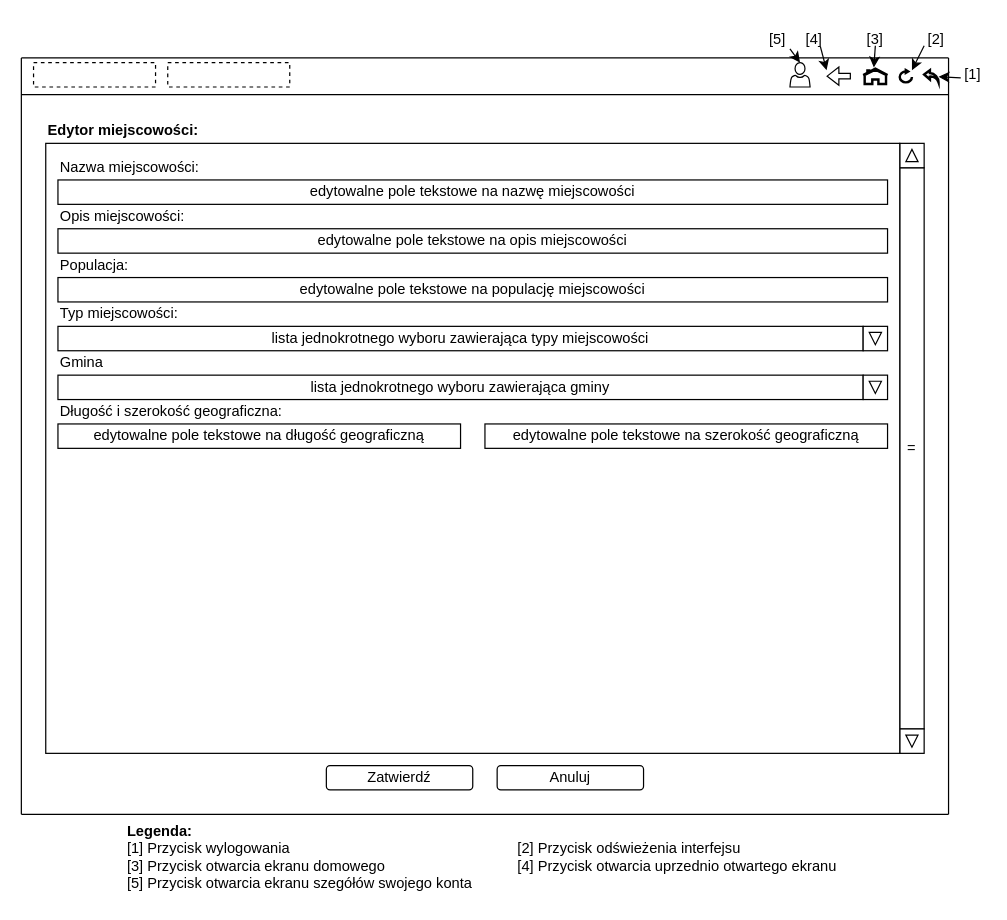
Image size: 1007x920. Some labels were removed from this diagram. Here are the shapes that lost their labels. From the top down, the centre of each, then its label:
At pixel 94 74: "login".
At pixel 228 74: "rola".
